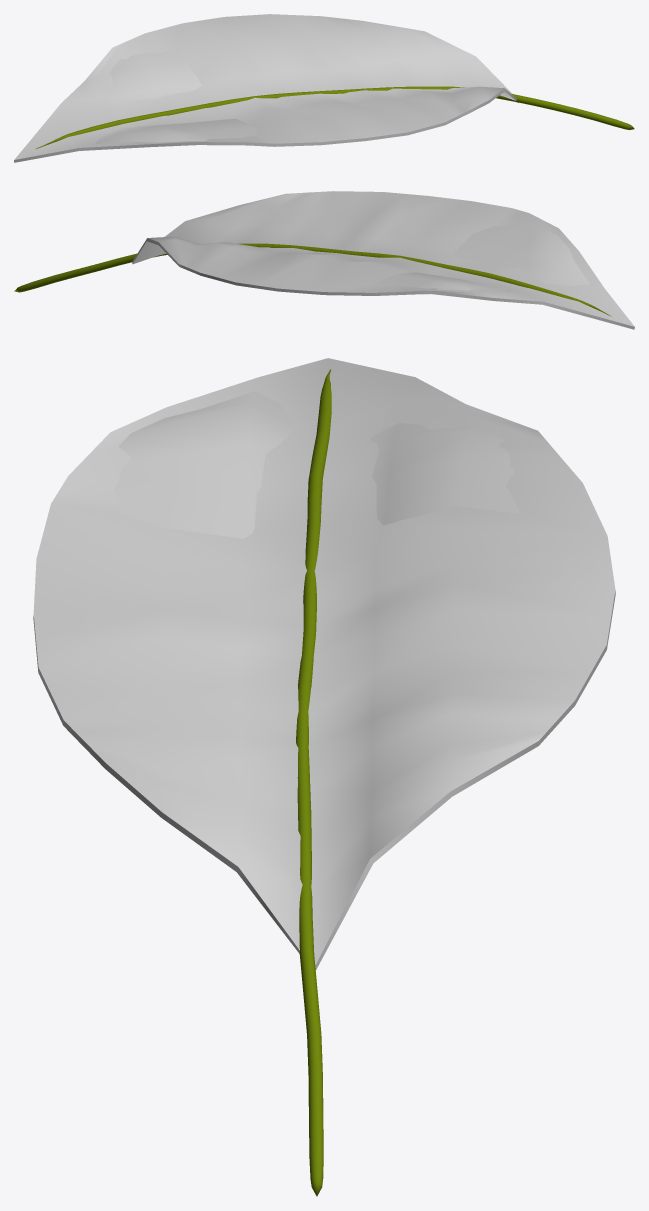
Rendered from leaf.obj.
3 renders of one model, top to bottom at view 1: azimuth 30°, elevation 25°; view 2: azimuth 150°, elevation 25°; view 3: azimuth 270°, elevation 25°, orthographic. The views are drawn at different scales.
Parts seen in each view (by area): view 1: Plane001, Cylinder001; view 2: Plane001, Cylinder001; view 3: Plane001, Cylinder001.
Part boxes in pixels (left/top/right/bottom): Plane001: left=14, top=14, right=518, bottom=162; Cylinder001: left=35, top=86, right=634, bottom=149; Plane001: left=132, top=191, right=634, bottom=329; Cylinder001: left=14, top=243, right=611, bottom=316; Plane001: left=33, top=358, right=615, bottom=970; Cylinder001: left=296, top=369, right=331, bottom=1196.
Size of the model in its own units: 273 by 65.32 by 111.
